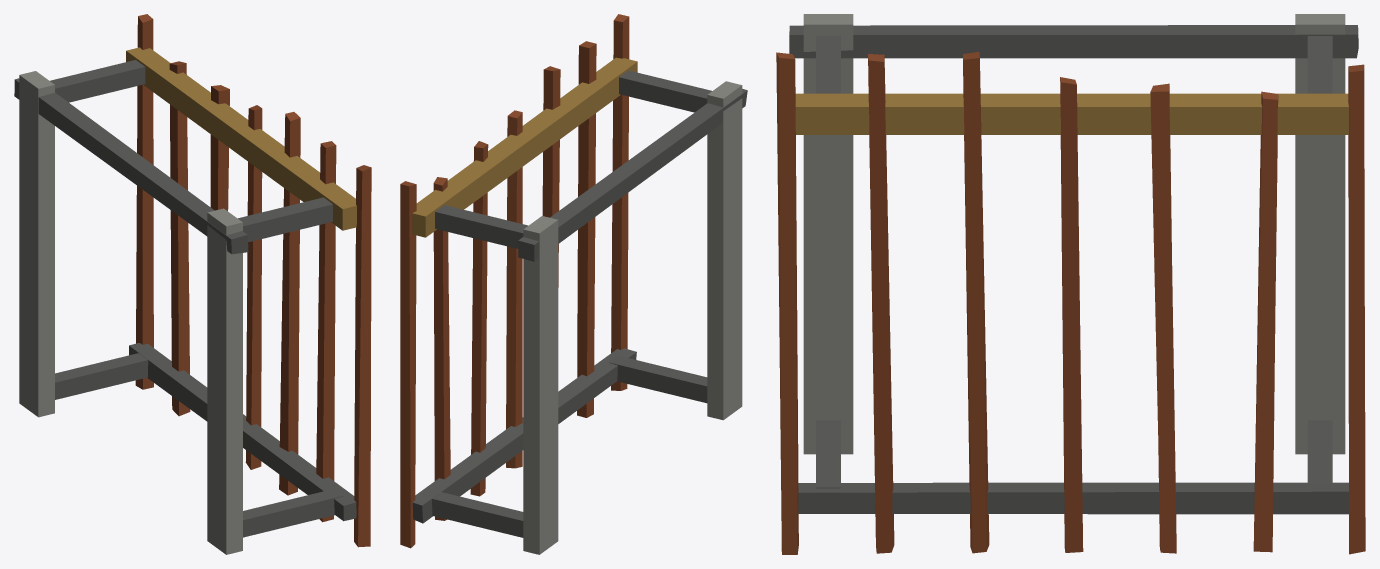
File: arm_cage.glb
3 views of the same model, side by side, from view 1: azimuth 30°, elevation 25°; view 2: azimuth 150°, elevation 25°; view 3: azimuth 270°, elevation 25° (orthographic). The views are drawn at different scales.
Parts seen in each view (by area): view 1: arm_cage; view 2: arm_cage; view 3: arm_cage.
Boxes of the visible parts, <box> form: arm_cage: <box>14,14,371,554</box>; arm_cage: <box>400,14,747,554</box>; arm_cage: <box>776,14,1365,554</box>.
Bounding box in the file's own units: 0.3311 × 0.8789 × 0.9442.
